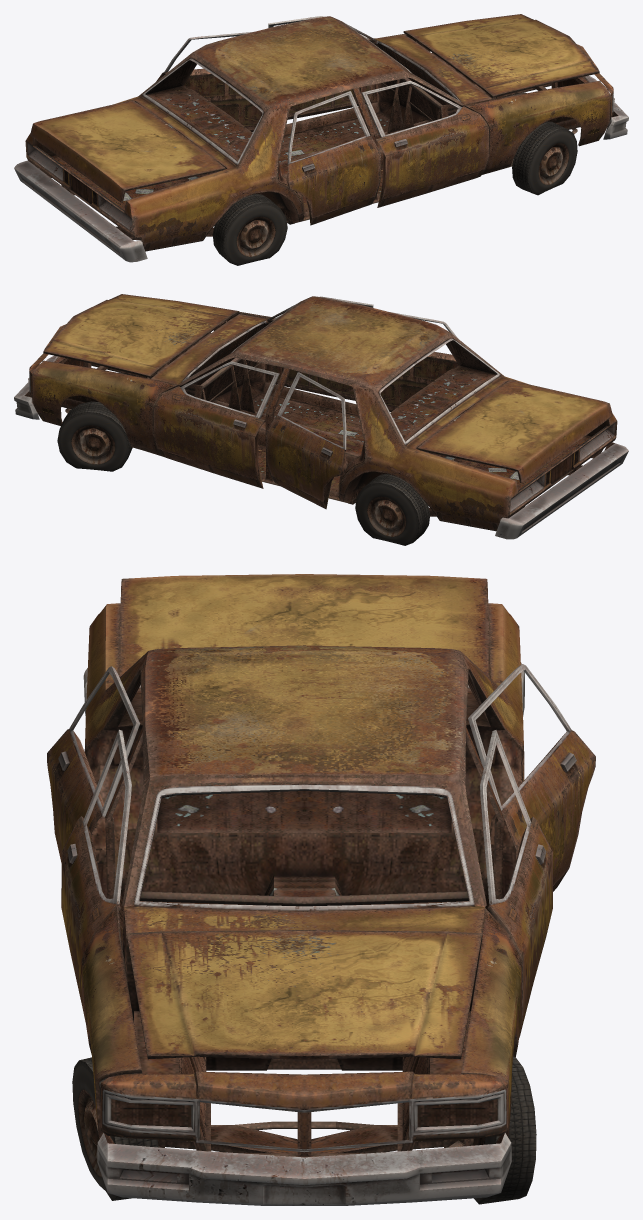
The model's file is damaged car.fbx.
The picture shows the model from 3 angles, top to bottom: view 1: azimuth 30°, elevation 25°; view 2: azimuth 150°, elevation 25°; view 3: azimuth 270°, elevation 25°; orthographic projection. The views are drawn at different scales.
Visible parts, largest first — view 1: bake002_Material #1893_0; view 2: bake002_Material #1893_0; view 3: bake002_Material #1893_0.
Boxes of the visible parts, box(x1,y1,x2,y2) form: bake002_Material #1893_0: box(14, 14, 628, 265); bake002_Material #1893_0: box(14, 294, 628, 545); bake002_Material #1893_0: box(47, 574, 595, 1205).
Size of the model in its own units: 1514 by 396 by 681.
Materials: 1 (1 with a texture image).
